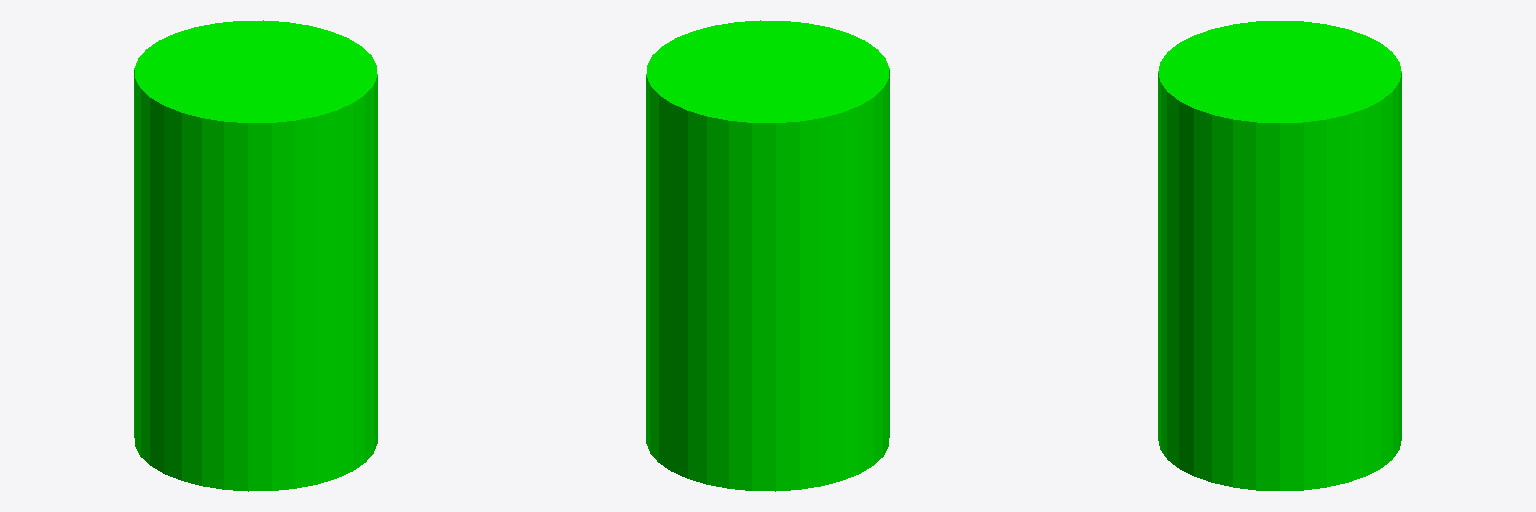
URDF robot description (vertical_cylindrical_block.urdf):
<?xml version="1.0" ?>
<robot name="vertical_cylindrical_block.urdf">
  <link name="baseLink">
    <contact>
      <lateral_friction value="1.0"/>
      <inertia_scaling value="3.0"/>
    </contact>
    <inertial>
      <origin rpy="0 0 0" xyz="0 0 0"/>
      <mass value=".1"/> <!-- 调整质量以匹配更大的尺寸 -->
      <inertia ixx="1" ixy="0" ixz="0" iyy="1" iyz="0" izz="1"/>
    </inertial>
    <visual>
      <origin rpy="0 0 0" xyz="0 0 0"/>
      <geometry>
        <cylinder radius="0.03" length="0.1"/> <!-- 半径和高度都增加 -->
      </geometry>
      <material name="green_color">
        <color rgba="0.0 1.0 0.0 1.0"/> <!-- RGBA颜色定义，这里设置为绿色 -->
      </material>
    </visual>
    <collision>
      <origin rpy="0 0 0" xyz="0 0 0"/>
      <geometry>
        <cylinder radius="0.03" length="0.1"/>
      </geometry>
    </collision>
  </link>
</robot>

--- Facts derived from the render (not from the file) ---
3 views of the same robot in one strip: view 1: azimuth 30°, elevation 25°; view 2: azimuth 150°, elevation 25°; view 3: azimuth 270°, elevation 25° (orthographic).
Robot: vertical_cylindrical_block.urdf — 1 links, 0 joints (none); root link baseLink; default pose: every joint at zero.
Visible links, largest first — view 1: baseLink; view 2: baseLink; view 3: baseLink.
Link boxes in pixels (box(x1,y1,x2,y2)): baseLink: box(134, 20, 377, 491); baseLink: box(646, 20, 889, 491); baseLink: box(1158, 21, 1401, 490).
Bounding box of the posed robot: 0.06 × 0.06 × 0.1 m (x, y, z).
Geometry: primitives only (box / cylinder / sphere), no mesh files.